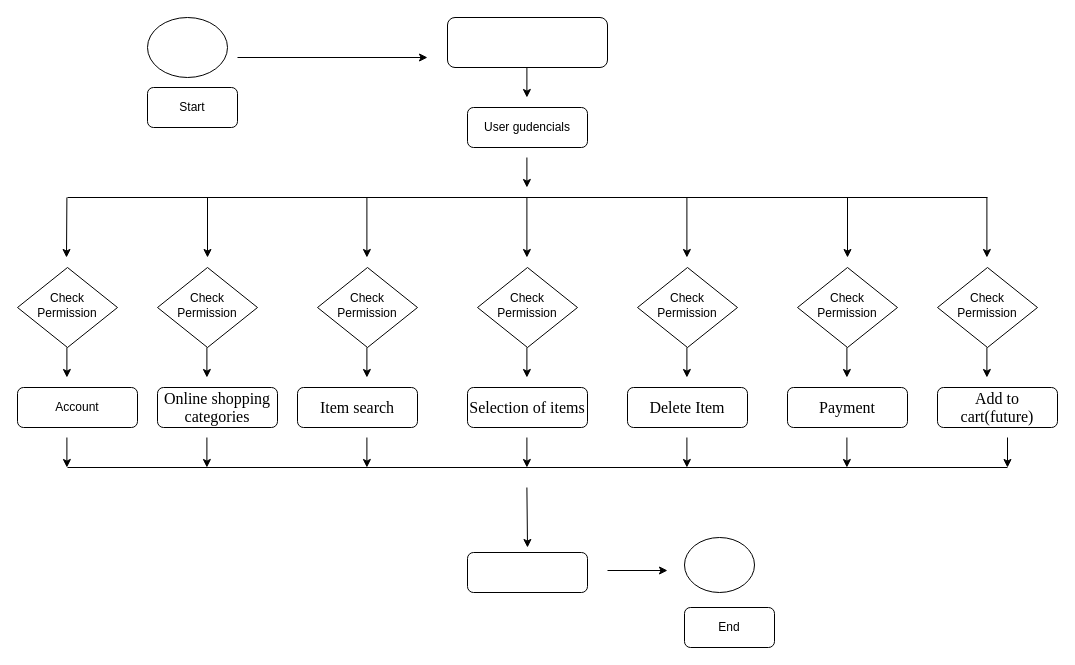
Some shapes in this 1075 by 665 pixel diagram are drawn without their labels. The box of each missing label's shape, as (x1, y1, x2, y2) in pixels:
Log into online shopping: (446, 16, 608, 68)
Signout: (466, 552, 588, 592)
